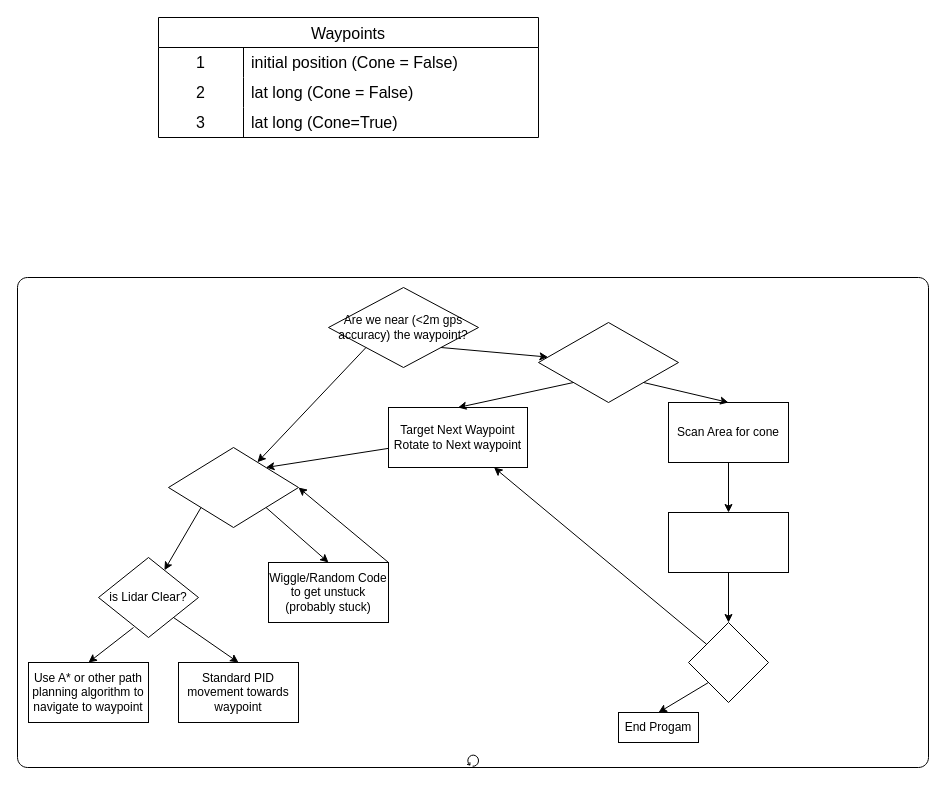
The diagram is 946 pixels wide and 785 high, and some of its shapes have lost their labels. The shapes that lost their labels are listed below. From the top down, each one's centre as x and y in pixels, then its label:
At pixel 608 362: "Does Current waypoint contain a Cone?".
At pixel 233 487: "is imu acceleration matching up with gps velocity?".
At pixel 728 542: "Touch Cone".
At pixel 728 662: "is this the last waypoint?".
